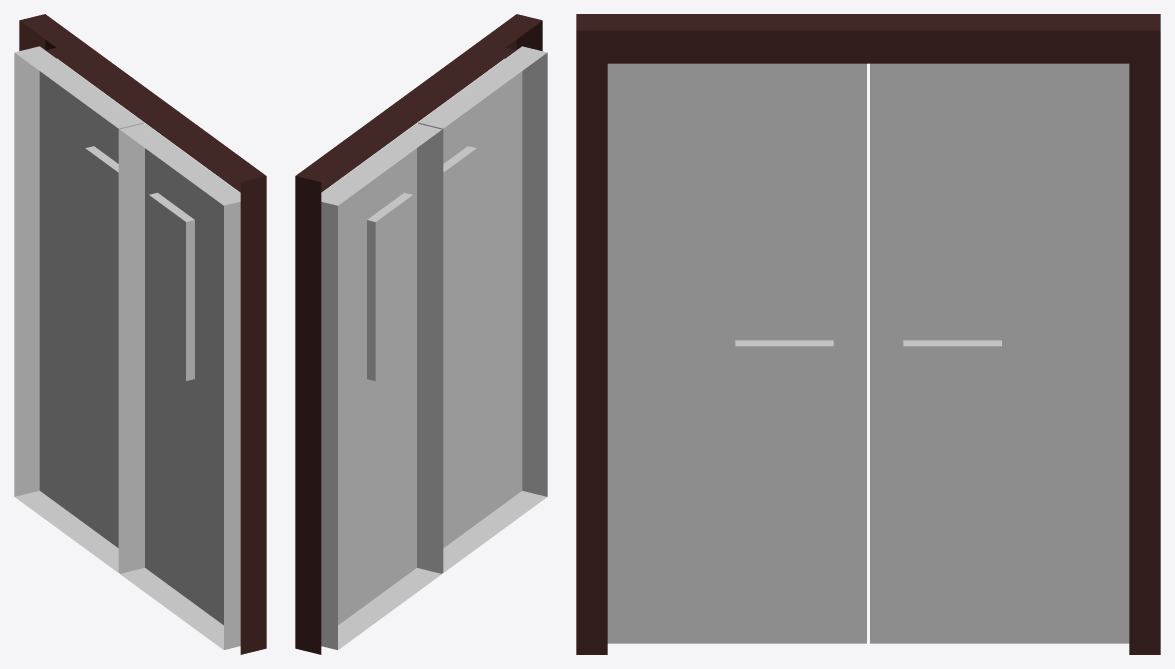
The model's file is door.fbx.
The picture shows the model from 3 angles, left to right: view 1: azimuth 30°, elevation 25°; view 2: azimuth 150°, elevation 25°; view 3: azimuth 270°, elevation 25°; orthographic projection. The views are drawn at different scales.
Parts seen in each view (by area): view 1: Door 1, Door 2, Frame; view 2: Door 2, Door 1, Frame; view 3: Door 1, Door 2, Frame.
Boxes of the visible parts, bbox=[...] form: Door 1: bbox=[119, 123, 240, 649]; Door 2: bbox=[14, 46, 143, 572]; Frame: bbox=[19, 14, 266, 654]; Door 2: bbox=[321, 123, 442, 649]; Door 1: bbox=[418, 46, 547, 572]; Frame: bbox=[295, 14, 542, 654]; Door 1: bbox=[607, 63, 866, 643]; Door 2: bbox=[870, 63, 1129, 643]; Frame: bbox=[576, 14, 1160, 654].
Size of the model in its own units: 26.55 by 326 by 277.
